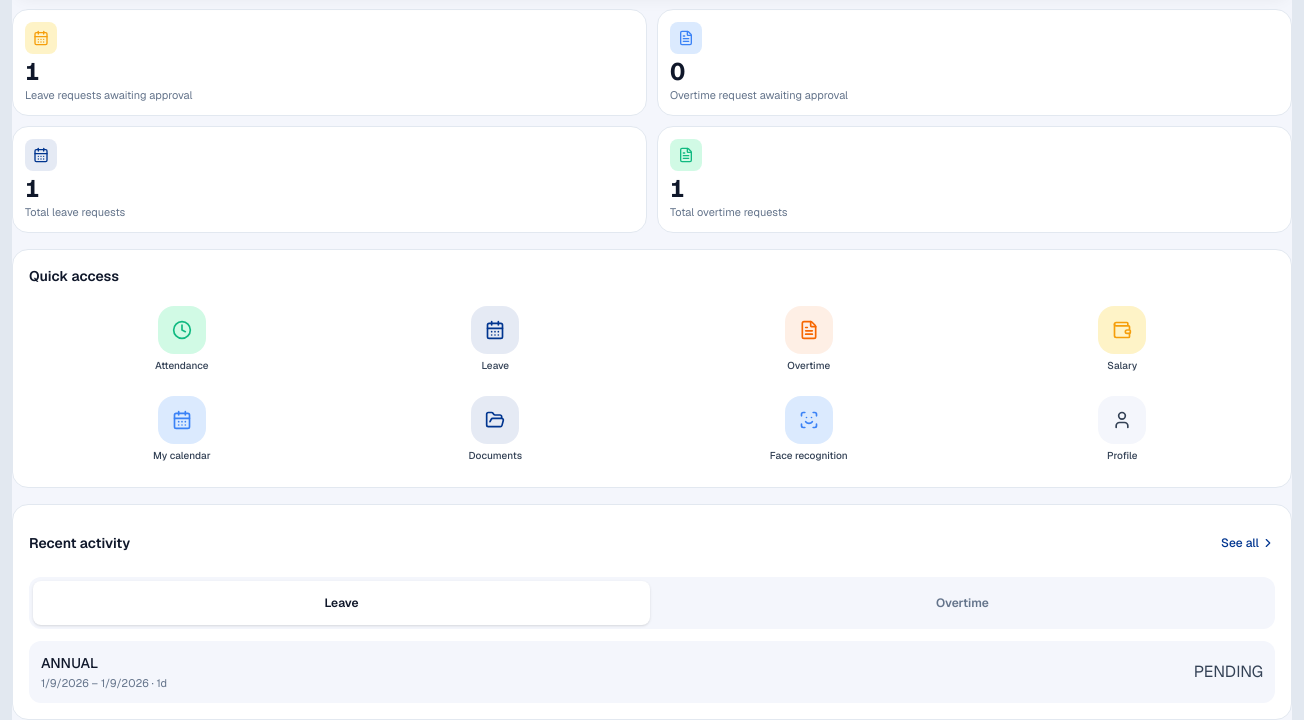
Scenario: the rest of the screen › switches the activity list between leave and overtime
This screenshot has width=1304, height=720.
(page scrolled)
expect the text "ANNUAL" is shown: met, box [41,654,98,672]
Click the button with test id "ess-mobile-activity-tab-overtime": (962, 603) [654,581,1271,625]
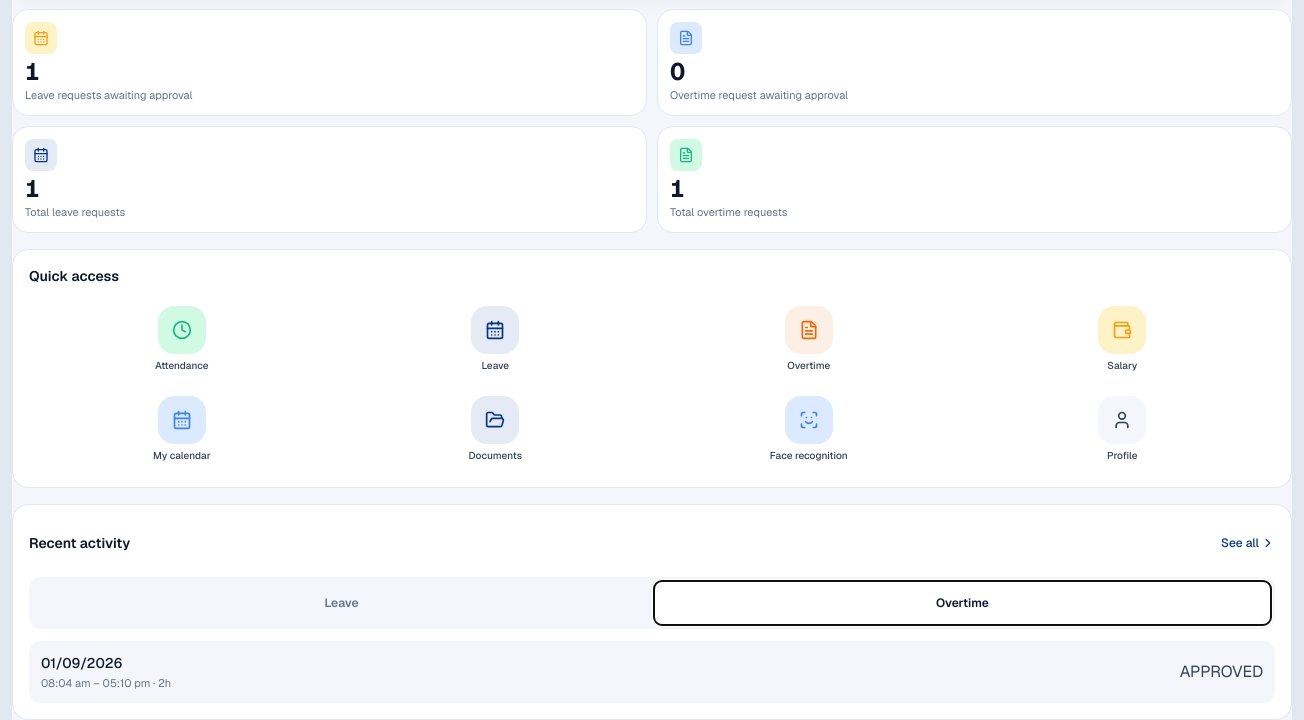
expect the button "ANNUAL" is gone: met
expect the text with test id "status-badge" reads "APPROVED": met, box [1180,661,1263,682]
